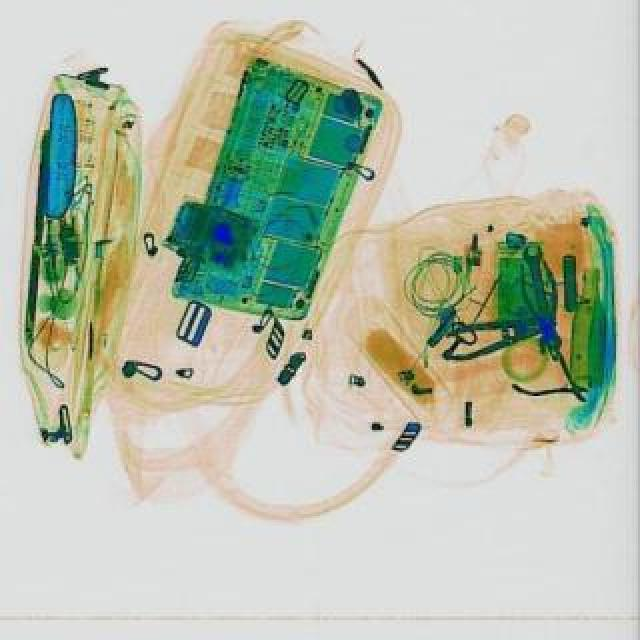scissors: (522, 244, 568, 352)
wrench: (506, 338, 610, 428), (442, 308, 564, 368), (518, 262, 574, 366)
